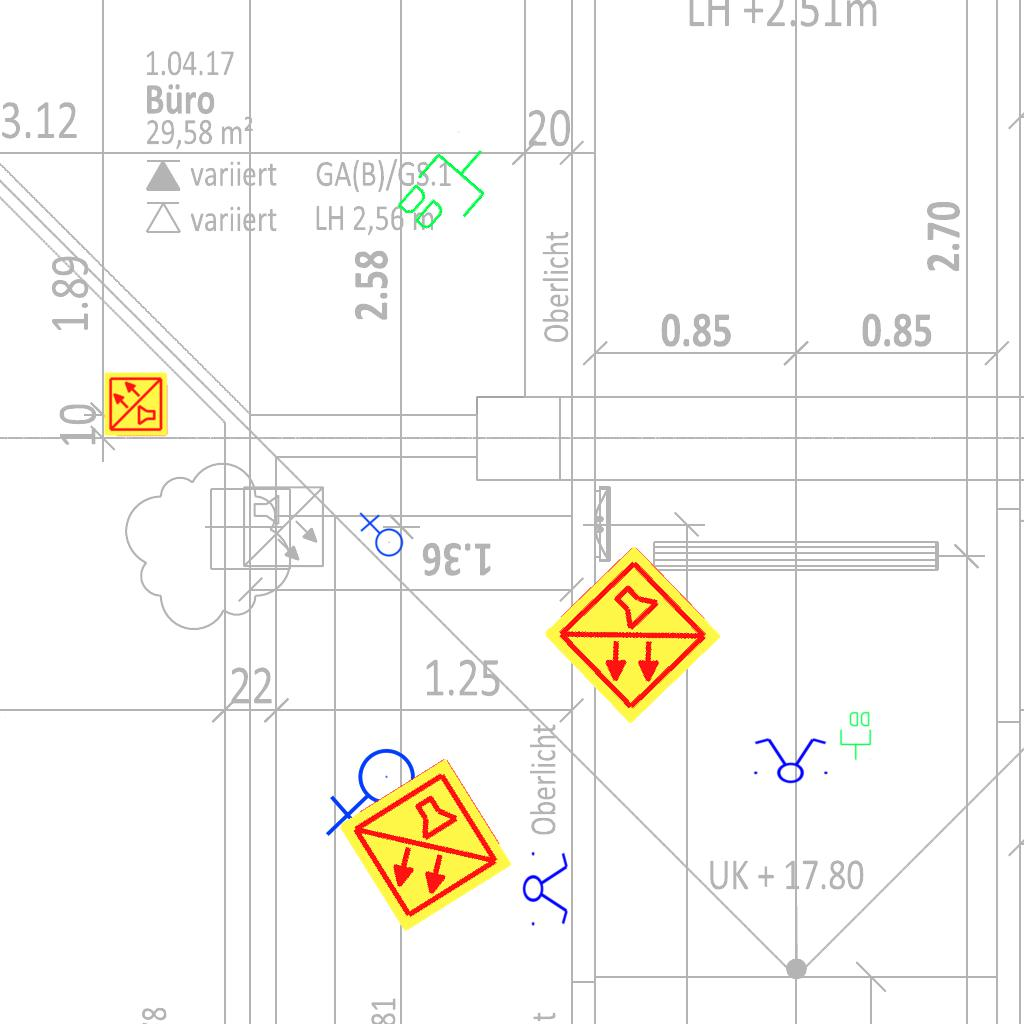Datenanschluss_zweifach: (388, 125, 509, 250), (839, 710, 873, 761)
Elektroanschluss_allgemein_230V_Geraeteanschlussdose_230V: (325, 747, 424, 841), (357, 512, 404, 561)
OKW_Multisensormelder_(Kombination_optischer_Rauch-Kahlenmonoxid_Waerme-Melder): (538, 541, 726, 729), (334, 754, 516, 936), (103, 371, 169, 437)
Serienschalter: (522, 846, 570, 930), (748, 736, 832, 784)
